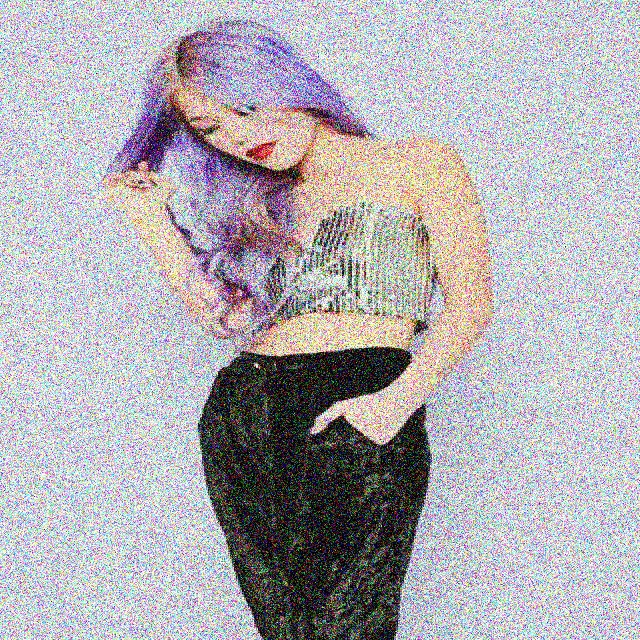Crop_Top: (226, 137, 423, 355)
Sleeveless: (200, 138, 495, 234)
